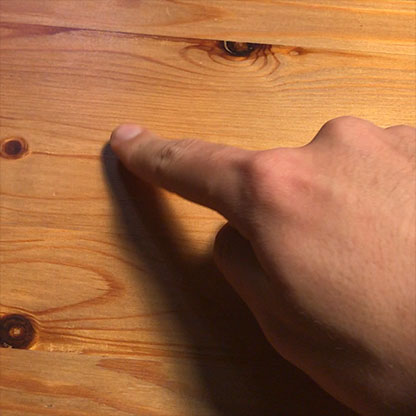fingertip: (105, 117, 148, 154)
